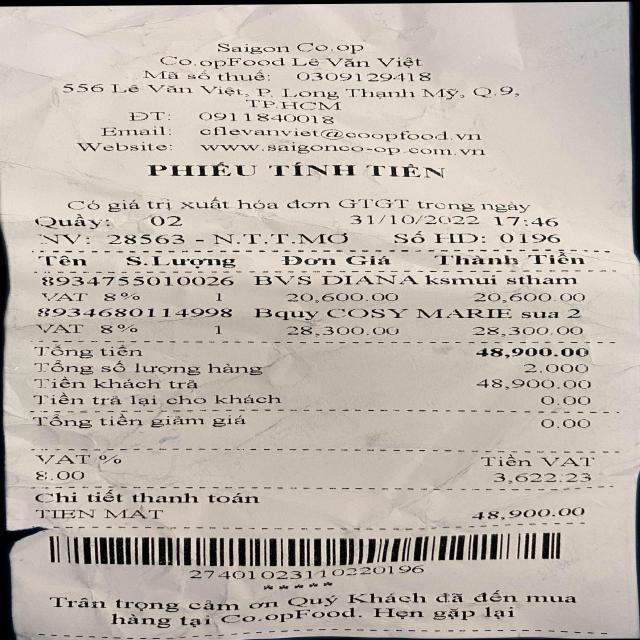Date: (319, 211, 490, 227)
Store_Name: (80, 30, 449, 57)
amount_number: (464, 343, 602, 361)
label_total: (33, 342, 146, 358)
